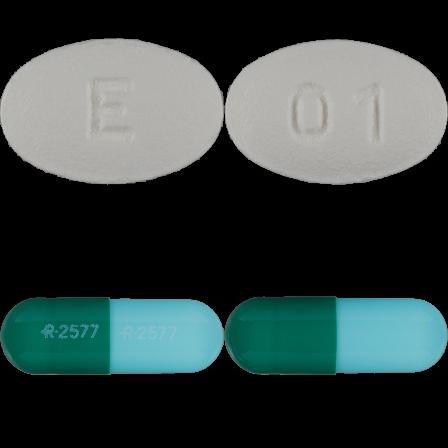35356-946: (0, 0, 224, 224)
